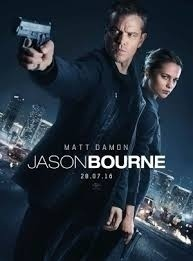pistol: (15, 15, 54, 55), (117, 226, 143, 259)
